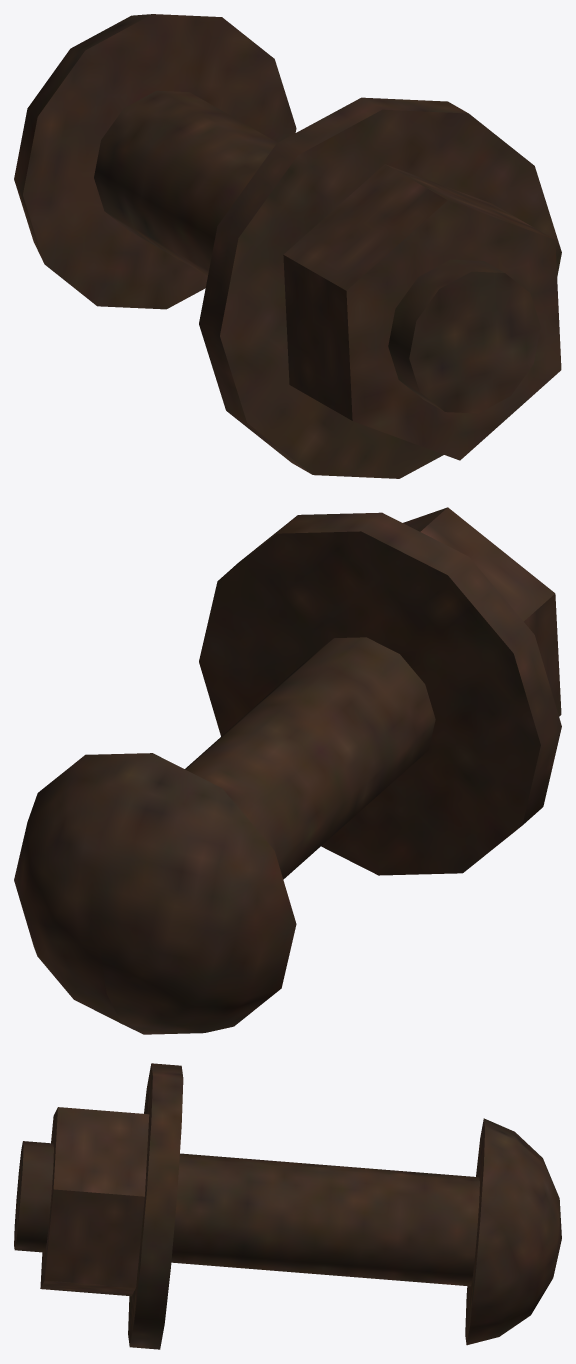
The model's file is bolt_mx_1.dae.
The picture shows the model from 3 angles, top to bottom: view 1: azimuth 30°, elevation 25°; view 2: azimuth 150°, elevation 25°; view 3: azimuth 270°, elevation 25°; orthographic projection. The views are drawn at different scales.
Visible parts, largest first — view 1: bolt_mx_1; view 2: bolt_mx_1; view 3: bolt_mx_1.
Part boxes in pixels (<box>): bolt_mx_1: <box>14,14,561,478</box>; bolt_mx_1: <box>14,507,561,1034</box>; bolt_mx_1: <box>14,1063,561,1349</box>.
Size of the model in its own units: 0.0936 by 0.1794 by 0.0941.
Materials: 1 (1 with a texture image).
